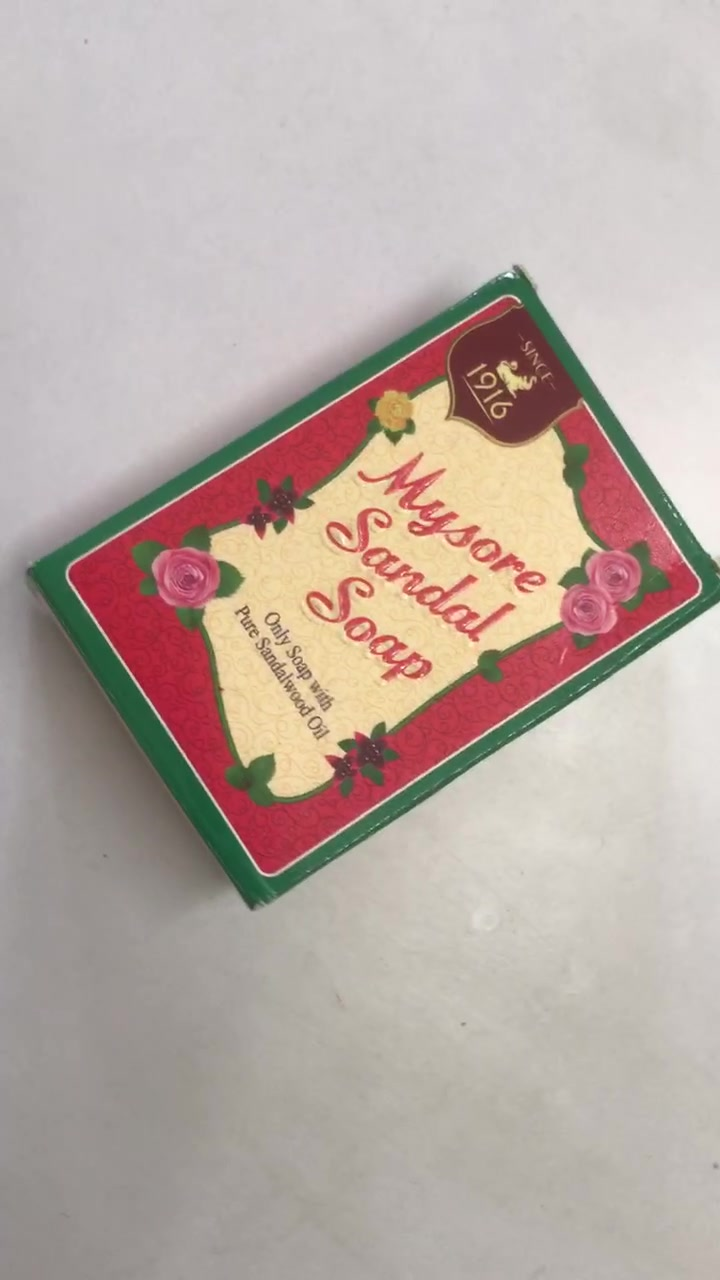mysore sandal soap: (23, 263, 720, 905)
